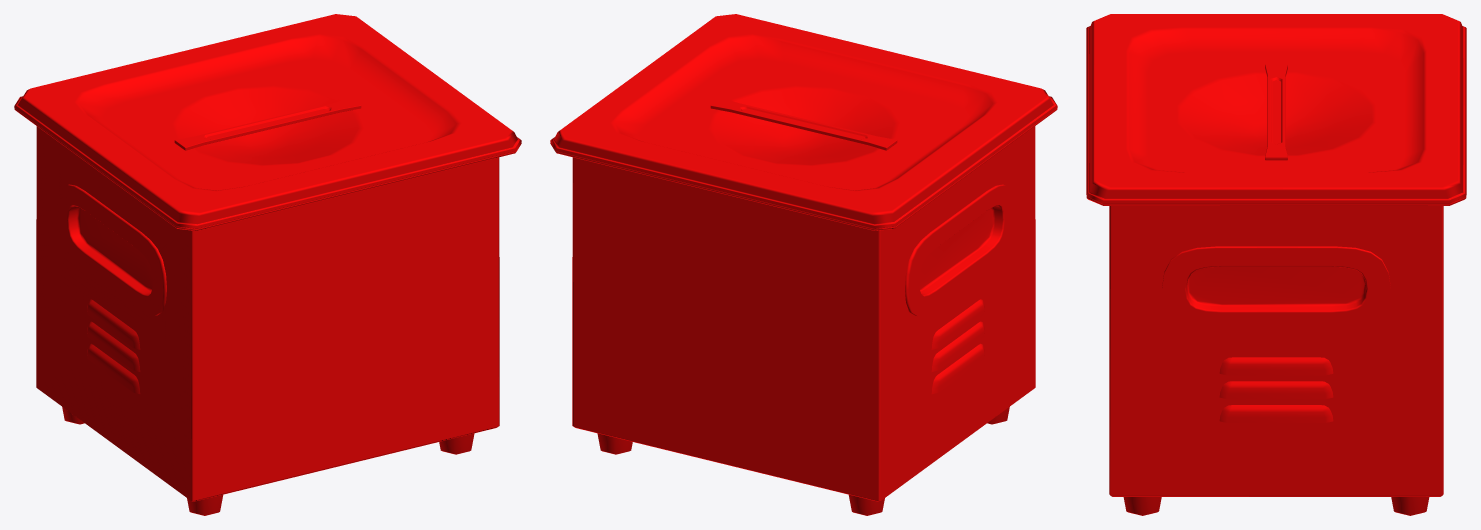
The model's file is UltraSonicCleaner01.FBX.
3 views of the same model, side by side, from view 1: azimuth 30°, elevation 25°; view 2: azimuth 150°, elevation 25°; view 3: azimuth 270°, elevation 25° (orthographic). The views are drawn at different scales.
Visible parts, largest first — view 1: UltraSonicCleaner01, UltraSonicCleaner01_Lid; view 2: UltraSonicCleaner01, UltraSonicCleaner01_Lid; view 3: UltraSonicCleaner01, UltraSonicCleaner01_Lid.
Boxes of the visible parts, left/top/right/bottom form: UltraSonicCleaner01: left=14, top=108, right=521, bottom=515; UltraSonicCleaner01_Lid: left=14, top=14, right=521, bottom=228; UltraSonicCleaner01: left=550, top=108, right=1057, bottom=515; UltraSonicCleaner01_Lid: left=550, top=14, right=1057, bottom=228; UltraSonicCleaner01: left=1086, top=197, right=1466, bottom=515; UltraSonicCleaner01_Lid: left=1086, top=14, right=1466, bottom=203.
Size of the model in its own units: 44.79 by 39.67 by 39.81.
